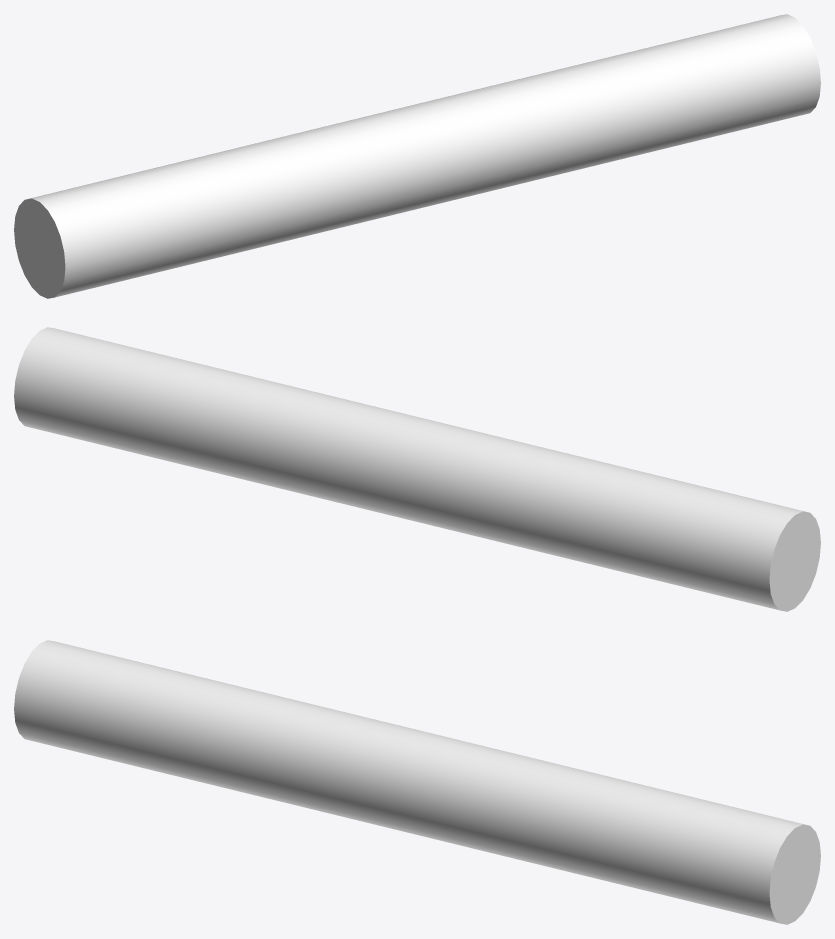
Rendered from gizmoScaleX.fbx.
The picture shows the model from 3 angles, top to bottom: view 1: azimuth 30°, elevation 25°; view 2: azimuth 150°, elevation 25°; view 3: azimuth 330°, elevation 25°; orthographic projection.
Parts seen in each view (by area): view 1: gizmoScaleX; view 2: gizmoScaleX; view 3: gizmoScaleX.
Part boxes in pixels (left/top/right/bottom): gizmoScaleX: left=14, top=14, right=820, bottom=298; gizmoScaleX: left=14, top=327, right=820, bottom=611; gizmoScaleX: left=14, top=640, right=820, bottom=924.
Size of the model in its own units: 30.49 by 3.6 by 3.6.
Materials: 1 (1 with a texture image).
